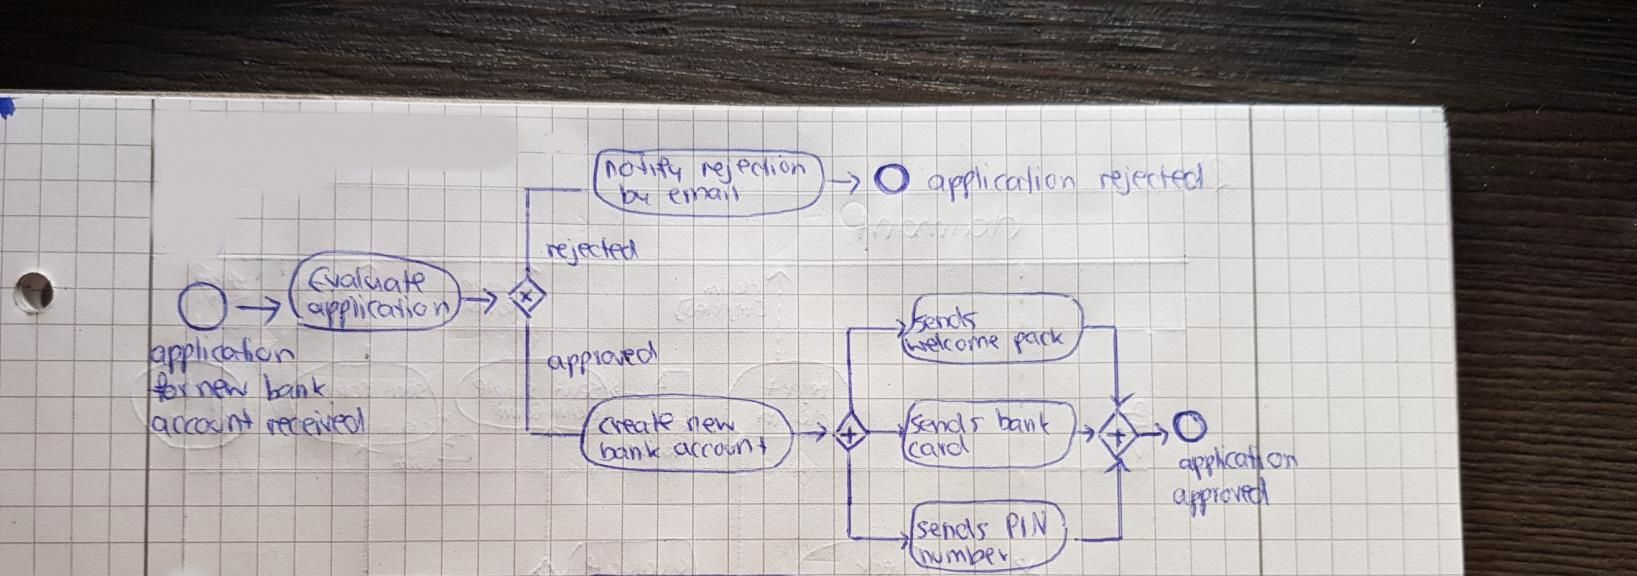Evaluate: (304, 265, 428, 296)
PIN: (1003, 508, 1050, 539)
account: (151, 409, 259, 438), (671, 437, 772, 461)
application: (920, 159, 1083, 208), (151, 337, 296, 371), (301, 293, 451, 325), (1177, 443, 1299, 480)
approved: (1169, 478, 1279, 518), (549, 340, 659, 379)
bank: (993, 406, 1055, 439), (261, 373, 329, 402), (599, 440, 667, 463)
by: (614, 185, 654, 208)
card: (906, 437, 977, 461)
create: (597, 411, 686, 438)
email: (668, 185, 743, 207)
for: (148, 374, 191, 405)
new: (193, 371, 255, 406), (688, 411, 740, 436)
notify: (602, 155, 694, 181)
number: (917, 545, 1010, 569)
pack: (1012, 323, 1067, 356)
received: (264, 408, 372, 441)
rejected: (1090, 155, 1210, 199), (543, 237, 638, 265)
rejection: (698, 154, 812, 181)
sends: (906, 409, 984, 441), (914, 512, 999, 542), (912, 304, 982, 335)
welcome: (902, 328, 1010, 359)
